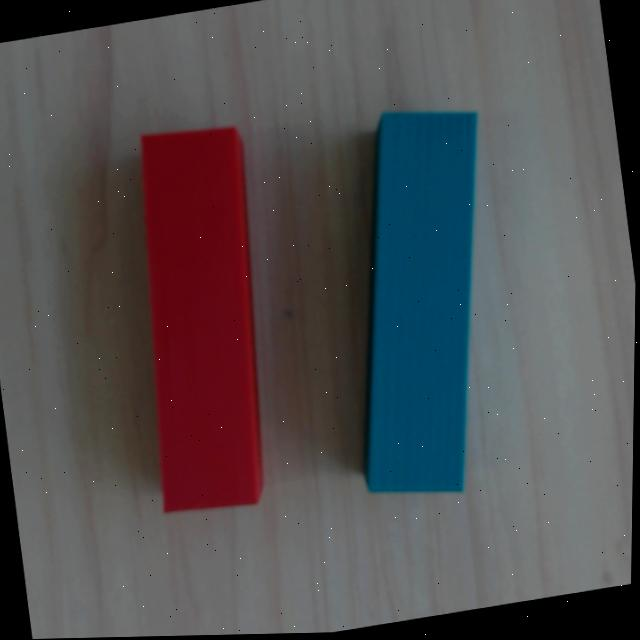Balok-Hijau-1002525: (364, 108, 476, 494)
Balok-Merah-1002525: (140, 126, 265, 511)
